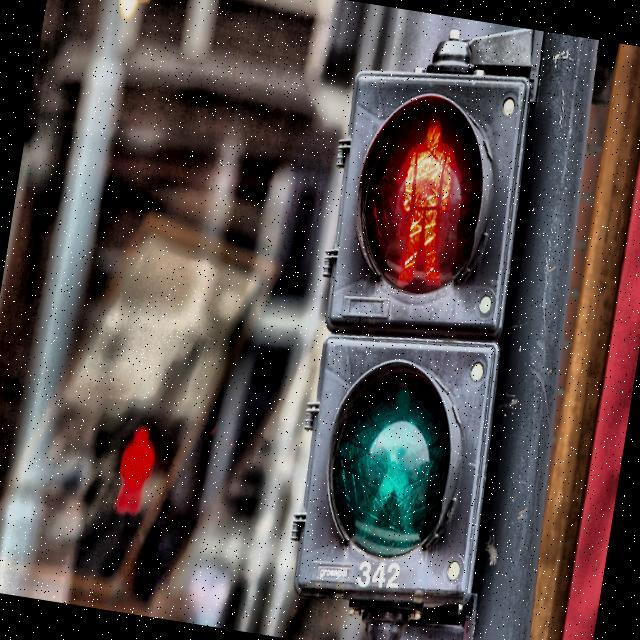red_light: (383, 116, 469, 292)
